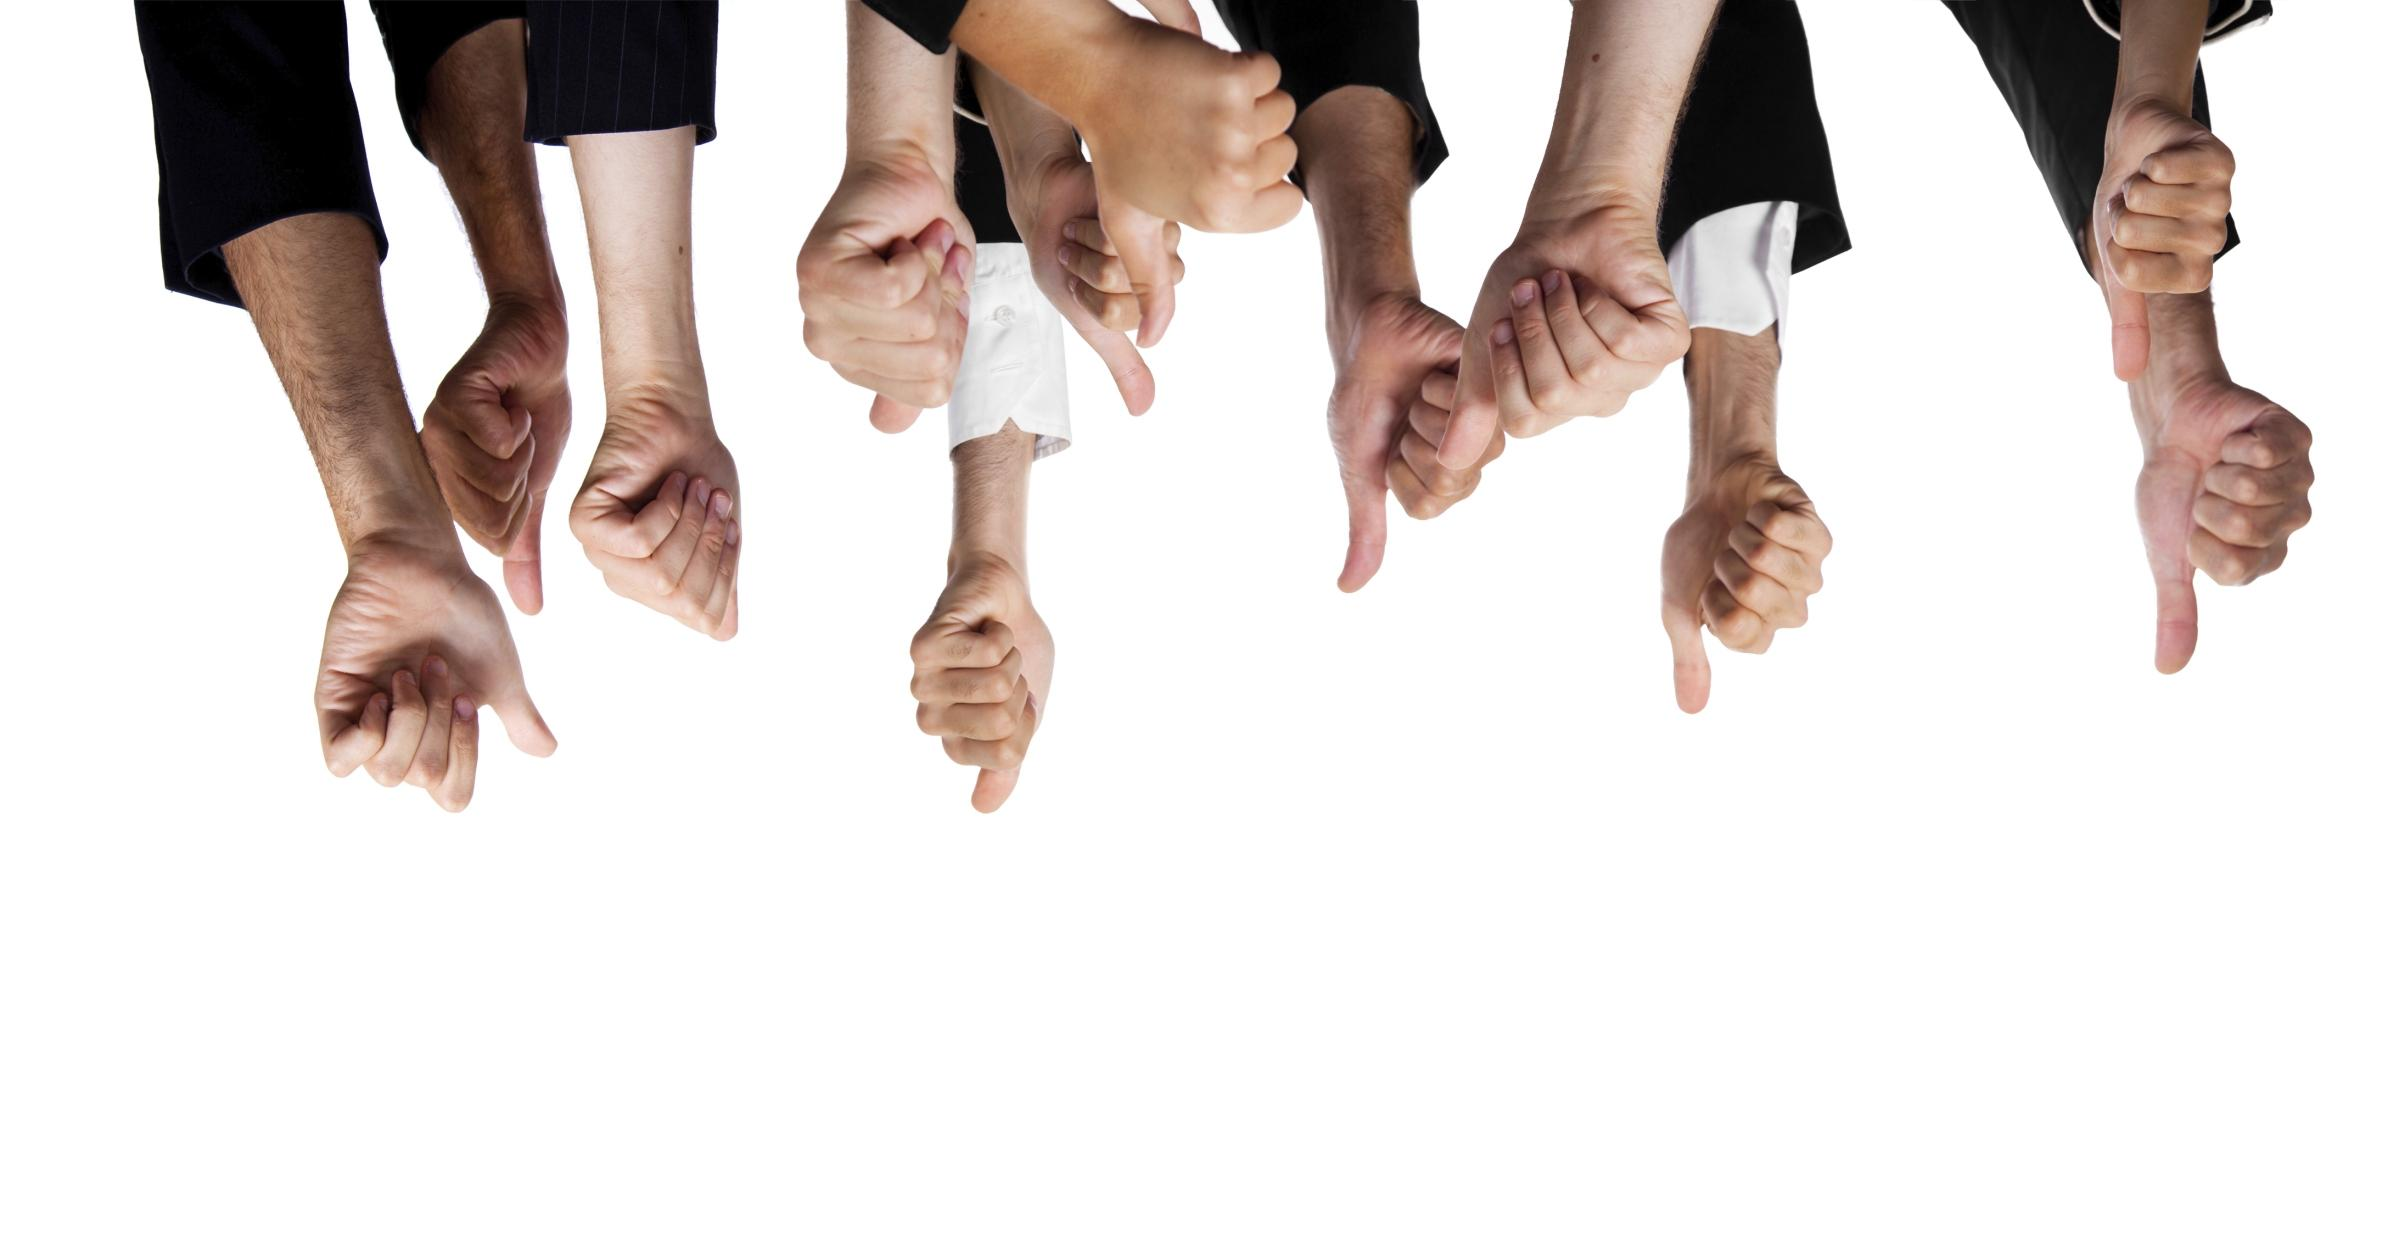thumbsdown: (1122, 48, 1304, 349), (1434, 263, 1691, 470), (2151, 417, 2313, 679), (1334, 365, 1509, 598), (1668, 495, 1834, 716), (2101, 140, 2236, 386), (435, 373, 544, 617), (908, 616, 1039, 816)
